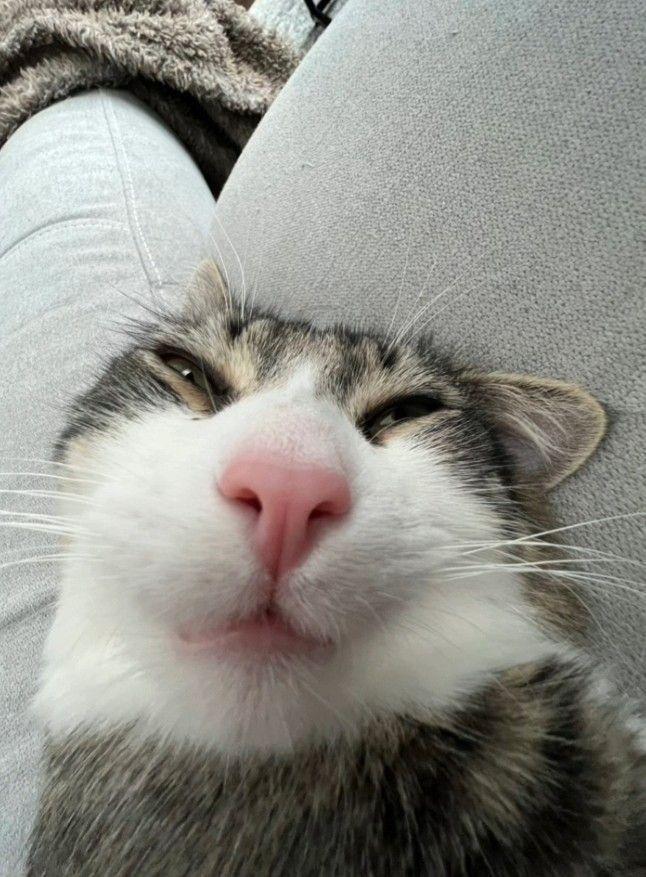non-dog: (14, 251, 646, 877)
